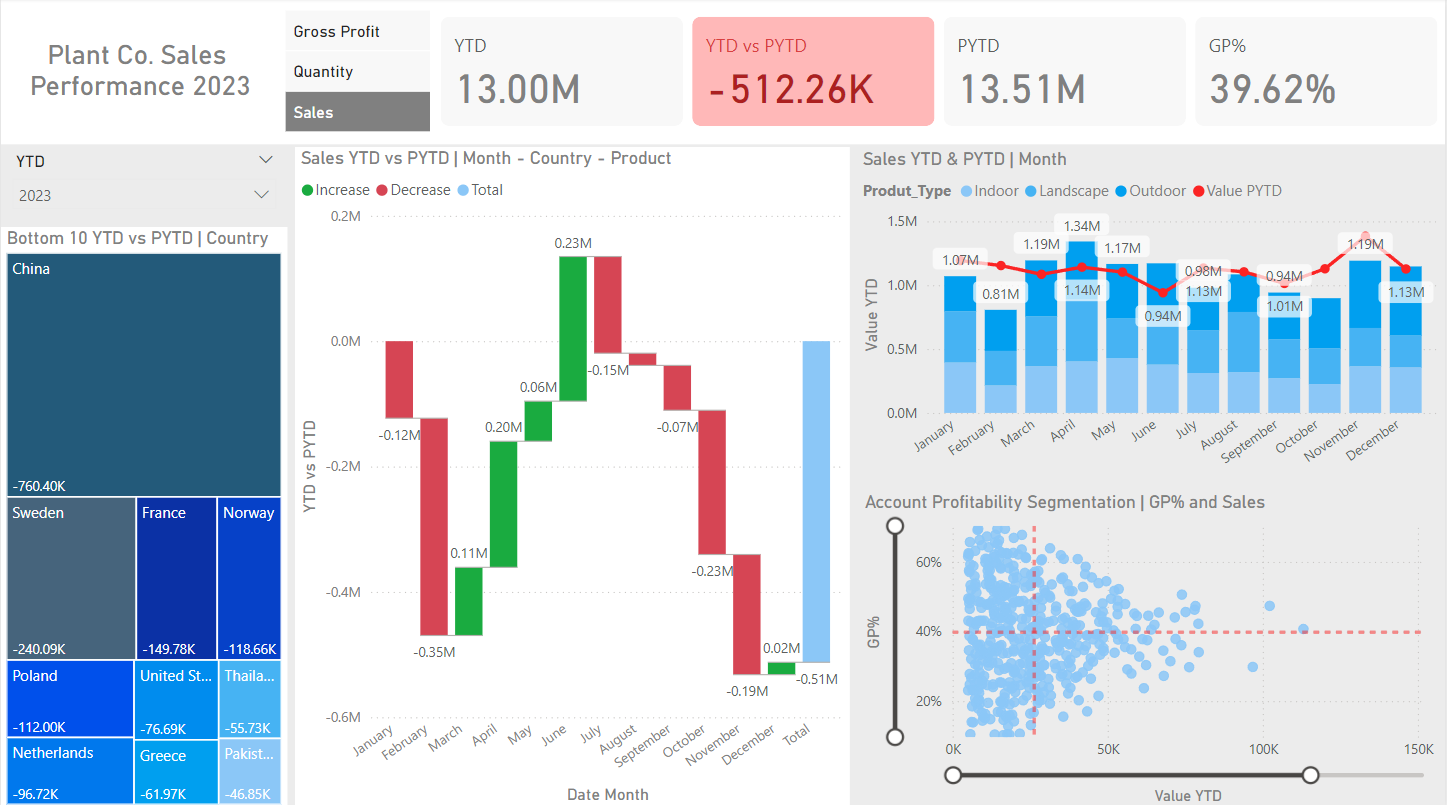

Layout of this report page (visuals, bound fields, positions):
{"tool":"powerbi","page":{"name":"Performance Report","canvas":[1280,720],"ordinal":0},"visuals":[{"type":"cardVisual","fields":{"Data":["_Measures.S_YTD","_Measures.YTD vs PYTD","_Measures.S_PYTD","_Measures.GP%"]},"box":[385.2,11.7,894.8,108],"z":0},{"type":"advancedSlicerVisual","fields":{"Values":["Slc_Values.Values"]},"box":[247.1,5.8,138.1,119.6],"z":1000},{"type":"slicer","fields":{"Values":["Dim_Date.Date.Variation.Date Hierarchy.Year"]},"box":[0,132.1,253.6,63.8],"z":2000},{"type":"treemap","title":"Bottom 10 YTD vs PYTD | Country","fields":{"Values":["_Measures.YTD vs PYTD"],"Group":["Dim_Account.country"]},"box":[0,203.1,253.6,516.9],"z":3000},{"type":"waterfallChart","fields":{"Y":["_Measures.YTD vs PYTD"],"Category":["Dim_Date.Date.Variation.Date Hierarchy.Month","Dim_Account.country","Dim_Product.Produt_Type","Dim_Product.Product_Name"]},"box":[260.7,132.1,492.1,587],"z":4000},{"type":"lineStackedColumnComboChart","fields":{"Y":["_Measures.S_YTD"],"Y2":["_Measures.S_PYTD"],"Category":["Dim_Date.Date.Variation.Date Hierarchy.Quarter","Dim_Date.Date.Variation.Date Hierarchy.Month"],"Series":["Dim_Product.Produt_Type"]},"box":[759,133,520.5,303.3],"z":5000},{"type":"scatterChart","fields":{"Y":["_Measures.GP%"],"X":["_Measures.S_YTD"],"Category":["Dim_Account.Account"]},"box":[760.8,437.1,519.6,282.9],"z":6000},{"type":"card","fields":{"Values":["_Measures._Report Title"]},"box":[0,6.2,247.4,113.5],"z":7000}]}

Visuals, with their boxes in screenshot pixels (x1, y1, x2, y2), scaled from the page's 1280x720 canvas onto the 1447x805 screenshot:
cardVisual - _Measures.S_YTD x _Measures.YTD vs PYTD: box(435, 13, 1446, 134)
advancedSlicerVisual - Slc_Values.Values: box(279, 6, 435, 140)
slicer - Dim_Date.Date.Variation.Date Hierarchy.Year: box(0, 148, 287, 219)
"Bottom 10 YTD vs PYTD | Country" treemap: box(0, 227, 287, 804)
waterfallChart - _Measures.YTD vs PYTD x Dim_Date.Date.Variation.Date Hierarchy.Month: box(295, 148, 851, 804)
lineStackedColumnComboChart - _Measures.S_YTD x _Measures.S_PYTD: box(858, 149, 1446, 488)
scatterChart - _Measures.GP% x _Measures.S_YTD: box(860, 489, 1446, 804)
card - _Measures._Report Title: box(0, 7, 280, 134)
